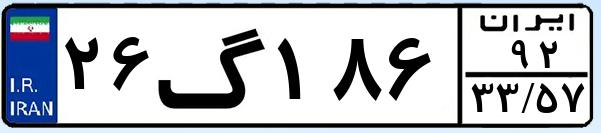1: (270, 28, 330, 110)
2: (57, 26, 110, 100), (537, 27, 568, 80)
3: (470, 70, 495, 125), (495, 70, 520, 125)
5: (535, 70, 560, 125)
6: (385, 28, 445, 110), (110, 28, 156, 98)
7: (560, 70, 590, 125)
8: (330, 28, 385, 110)
9: (508, 27, 537, 80)
گ: (156, 12, 270, 120)
